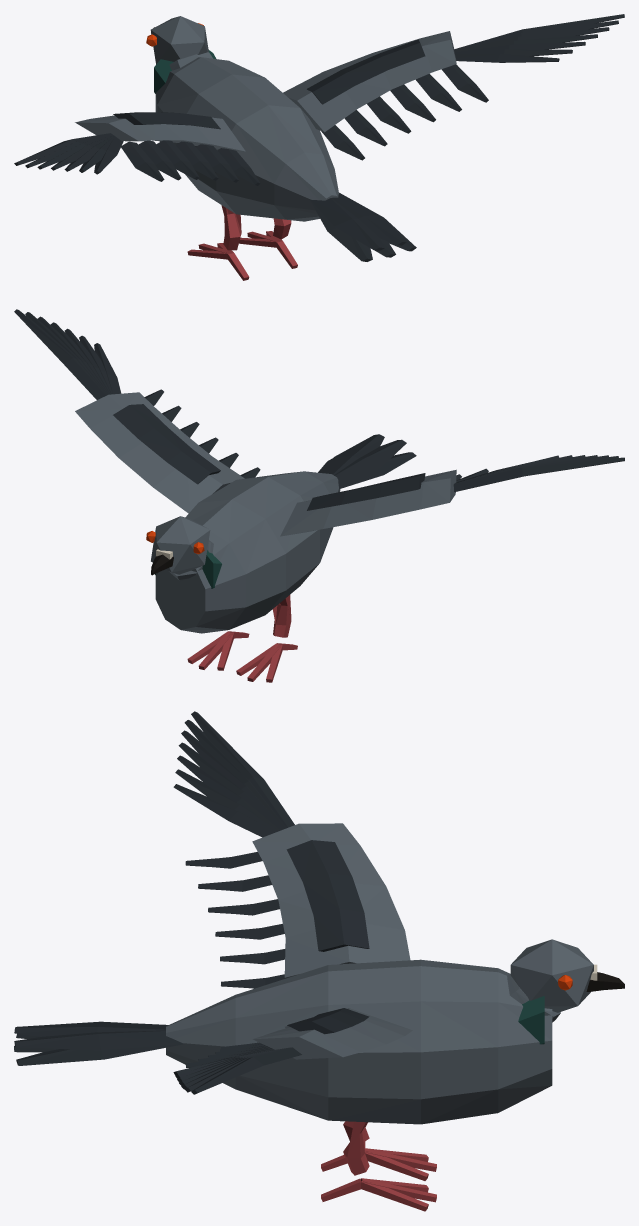
Rendered from ANIMAL_01_Pigeon.obj.
3 views of the same model, one above another, from view 1: azimuth 30°, elevation 25°; view 2: azimuth 150°, elevation 25°; view 3: azimuth 270°, elevation 25° (orthographic). The views are drawn at different scales.
Parts seen in each view (by area): view 1: ANIMAL_01_Pigeon_Body, ANIMAL_01_Pigeon_Wing_L_Arm, ANIMAL_01_Pigeon_Wing_L_Primaries, ANIMAL_01_Pigeon_Wing_R_Secondaries, ANIMAL_01_Pigeon_Wing_L_Secondaries, ANIMAL_01_Pigeon_Tail, ANIMAL_01_Pigeon_Wing_R_Arm, ANIMAL_01_Pigeon_Wing_R_Primaries, ANIMAL_01_Pigeon_Wing_L_Coverts, ANIMAL_01_Pigeon_Head, ANIMAL_01_Pigeon_Wing_R_Coverts, ANIMAL_01_Pigeon_Foot_R (+3 smaller); view 2: ANIMAL_01_Pigeon_Body, ANIMAL_01_Pigeon_Wing_L_Arm, ANIMAL_01_Pigeon_Wing_R_Arm, ANIMAL_01_Pigeon_Wing_L_Primaries, ANIMAL_01_Pigeon_Wing_L_Coverts, ANIMAL_01_Pigeon_Tail, ANIMAL_01_Pigeon_Head, ANIMAL_01_Pigeon_Wing_R_Primaries, ANIMAL_01_Pigeon_Wing_R_Coverts, ANIMAL_01_Pigeon_Foot_R, ANIMAL_01_Pigeon_Foot_L, ANIMAL_01_Pigeon_Wing_L_Secondaries (+1 smaller); view 3: ANIMAL_01_Pigeon_Body, ANIMAL_01_Pigeon_Wing_R_Arm, ANIMAL_01_Pigeon_Wing_R_Primaries, ANIMAL_01_Pigeon_Wing_R_Coverts, ANIMAL_01_Pigeon_Tail, ANIMAL_01_Pigeon_Head, ANIMAL_01_Pigeon_Wing_R_Secondaries, ANIMAL_01_Pigeon_Wing_L_Arm, ANIMAL_01_Pigeon_Wing_L_Primaries, ANIMAL_01_Pigeon_Foot_L, ANIMAL_01_Pigeon_Foot_R, ANIMAL_01_Pigeon_Wing_L_Coverts (+3 smaller).
Boxes of the visible parts, x1=… form: ANIMAL_01_Pigeon_Body: x1=155, y1=57, x2=338, y2=221; ANIMAL_01_Pigeon_Wing_L_Arm: x1=283, y1=31, x2=456, y2=132; ANIMAL_01_Pigeon_Wing_L_Primaries: x1=453, y1=14, x2=624, y2=62; ANIMAL_01_Pigeon_Wing_R_Secondaries: x1=121, y1=140, x2=260, y2=185; ANIMAL_01_Pigeon_Wing_L_Secondaries: x1=321, y1=64, x2=488, y2=160; ANIMAL_01_Pigeon_Tail: x1=310, y1=192, x2=416, y2=261; ANIMAL_01_Pigeon_Wing_R_Arm: x1=75, y1=115, x2=245, y2=151; ANIMAL_01_Pigeon_Wing_R_Primaries: x1=14, y1=133, x2=123, y2=174; ANIMAL_01_Pigeon_Wing_L_Coverts: x1=307, y1=39, x2=425, y2=104; ANIMAL_01_Pigeon_Head: x1=150, y1=16, x2=208, y2=64; ANIMAL_01_Pigeon_Wing_R_Coverts: x1=113, y1=112, x2=220, y2=129; ANIMAL_01_Pigeon_Foot_R: x1=187, y1=243, x2=249, y2=280; ANIMAL_01_Pigeon_Body: x1=155, y1=471, x2=340, y2=633; ANIMAL_01_Pigeon_Wing_L_Arm: x1=75, y1=392, x2=244, y2=513; ANIMAL_01_Pigeon_Wing_R_Arm: x1=280, y1=469, x2=456, y2=536; ANIMAL_01_Pigeon_Wing_L_Primaries: x1=14, y1=309, x2=121, y2=399; ANIMAL_01_Pigeon_Wing_L_Coverts: x1=113, y1=404, x2=220, y2=484; ANIMAL_01_Pigeon_Tail: x1=318, y1=434, x2=416, y2=489; ANIMAL_01_Pigeon_Head: x1=151, y1=516, x2=210, y2=574; ANIMAL_01_Pigeon_Wing_R_Primaries: x1=453, y1=455, x2=624, y2=491; ANIMAL_01_Pigeon_Wing_R_Coverts: x1=307, y1=473, x2=425, y2=510; ANIMAL_01_Pigeon_Foot_R: x1=236, y1=643, x2=297, y2=682; ANIMAL_01_Pigeon_Foot_L: x1=187, y1=631, x2=249, y2=670; ANIMAL_01_Pigeon_Wing_L_Secondaries: x1=144, y1=389, x2=260, y2=478; ANIMAL_01_Pigeon_Body: x1=166, y1=959, x2=552, y2=1124; ANIMAL_01_Pigeon_Wing_R_Arm: x1=252, y1=823, x2=410, y2=978; ANIMAL_01_Pigeon_Wing_R_Primaries: x1=173, y1=711, x2=294, y2=837; ANIMAL_01_Pigeon_Wing_R_Coverts: x1=286, y1=840, x2=369, y2=951; ANIMAL_01_Pigeon_Tail: x1=14, y1=1021, x2=184, y2=1065; ANIMAL_01_Pigeon_Head: x1=510, y1=939, x2=593, y2=1012; ANIMAL_01_Pigeon_Wing_R_Secondaries: x1=185, y1=852, x2=286, y2=988; ANIMAL_01_Pigeon_Wing_L_Arm: x1=252, y1=1008, x2=412, y2=1059; ANIMAL_01_Pigeon_Wing_L_Primaries: x1=173, y1=1047, x2=301, y2=1094; ANIMAL_01_Pigeon_Foot_L: x1=321, y1=1178, x2=436, y2=1211; ANIMAL_01_Pigeon_Foot_R: x1=321, y1=1148, x2=436, y2=1180; ANIMAL_01_Pigeon_Wing_L_Coverts: x1=287, y1=1008, x2=369, y2=1034.
Bounding box in the file's own units: 0.6995 × 0.2442 × 0.4747.
